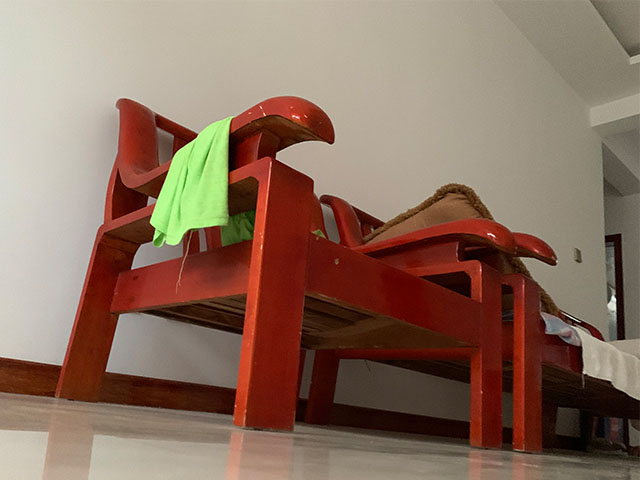sofa: (53, 91, 510, 452), (327, 190, 640, 452)
